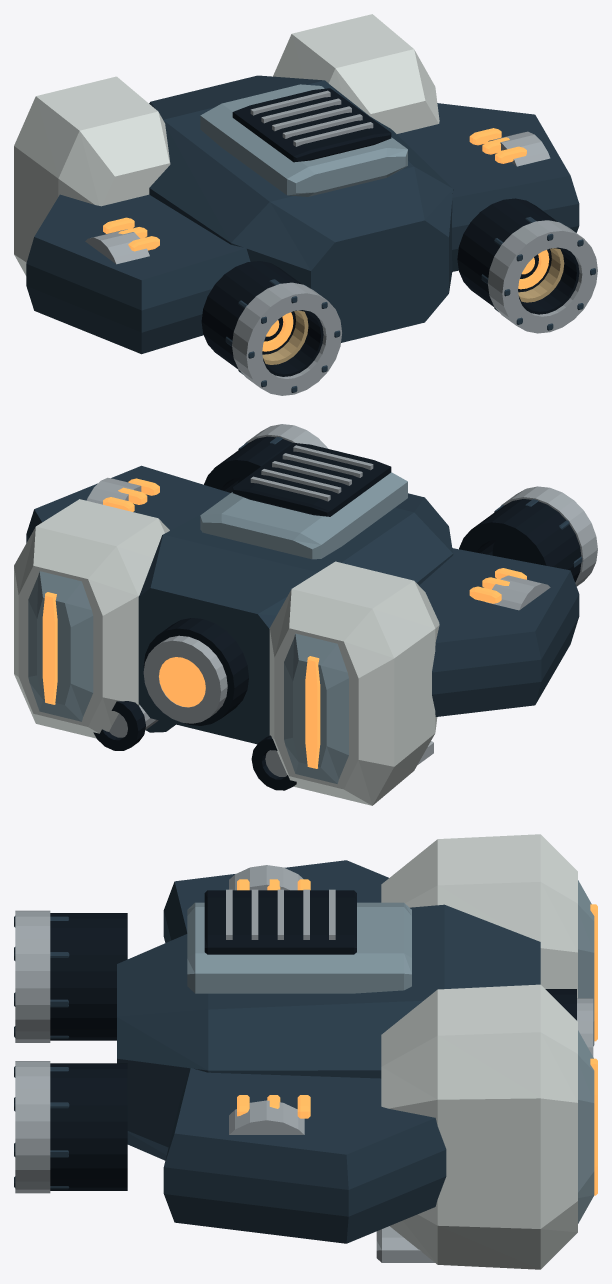
The model's file is bulwark_debris.glb.
3 views of the same model, one above another, from view 1: azimuth 30°, elevation 25°; view 2: azimuth 150°, elevation 25°; view 3: azimuth 270°, elevation 25° (orthographic). The views are drawn at different scales.
Visible parts, largest first — view 1: port_armor, port_engine, core_engine, starboard_armor, starboard_engine, core_armor; view 2: port_armor, core_armor, starboard_armor, port_engine, starboard_engine, core_engine; view 3: starboard_armor, core_armor, starboard_engine, port_armor, port_engine, core_engine.
Boxes of the visible parts, left/top/right/bottom form: port_armor: left=14, top=76, right=269, bottom=332; port_engine: left=27, top=202, right=341, bottom=395; core_engine: left=270, top=122, right=448, bottom=342; starboard_armor: left=273, top=14, right=570, bottom=197; starboard_engine: left=414, top=141, right=597, bottom=333; core_armor: left=151, top=75, right=413, bottom=201; port_armor: left=258, top=512, right=578, bottom=805; core_armor: left=124, top=443, right=413, bottom=777; starboard_armor: left=14, top=465, right=230, bottom=750; port_engine: left=415, top=486, right=597, bottom=701; starboard_engine: left=111, top=424, right=328, bottom=494; core_engine: left=293, top=445, right=448, bottom=525; starboard_armor: left=165, top=984, right=597, bottom=1269; core_armor: left=195, top=889, right=593, bottom=1056; starboard_engine: left=14, top=1009, right=347, bottom=1243; port_armor: left=174, top=834, right=597, bottom=1046; port_engine: left=14, top=867, right=249, bottom=1042; core_engine: left=117, top=889, right=232, bottom=1160.
Bounding box in the file's own units: 3.06 × 1.26 × 2.5.
